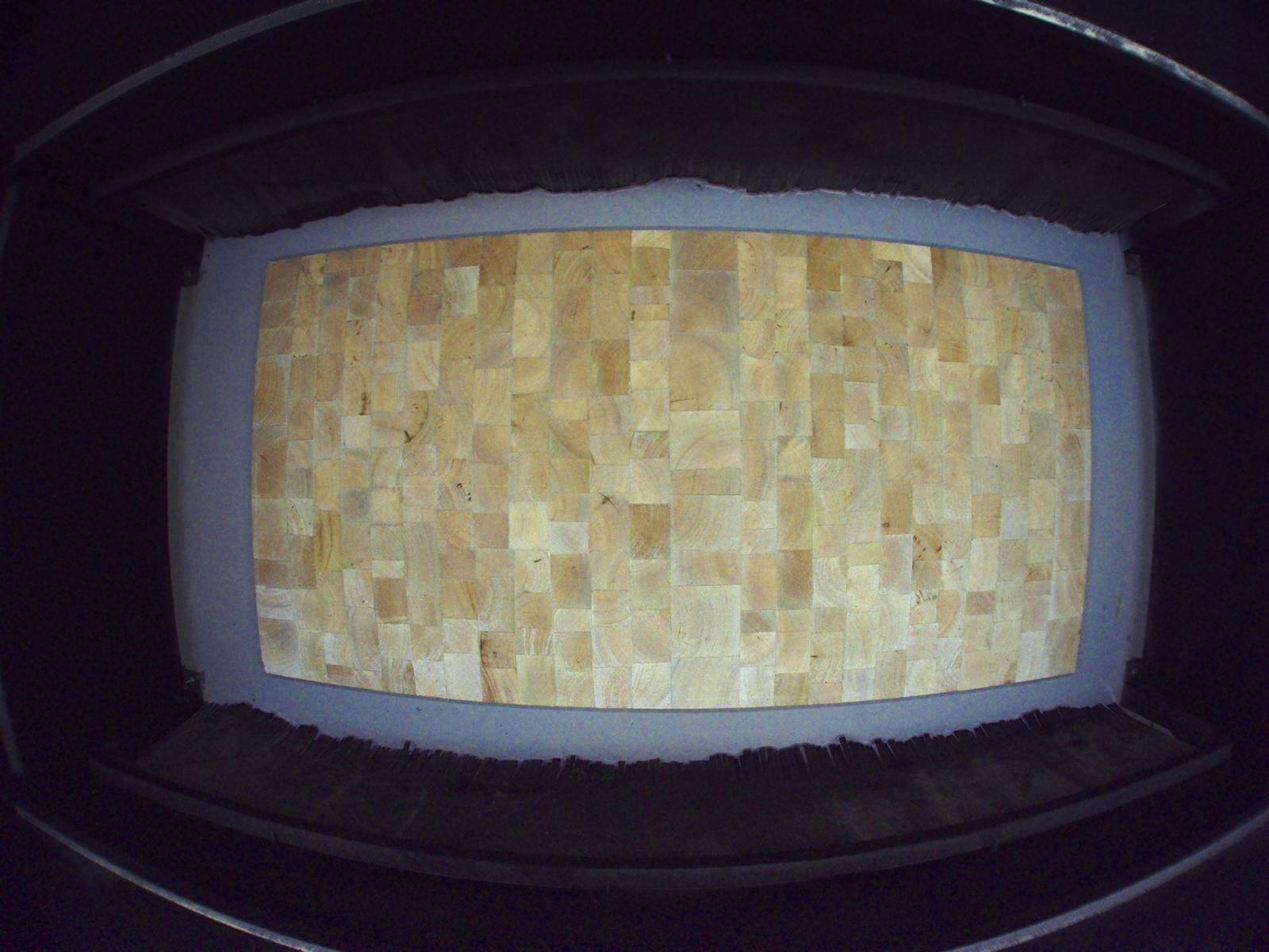sheck_ecuatoriano: (598, 491, 617, 509)
